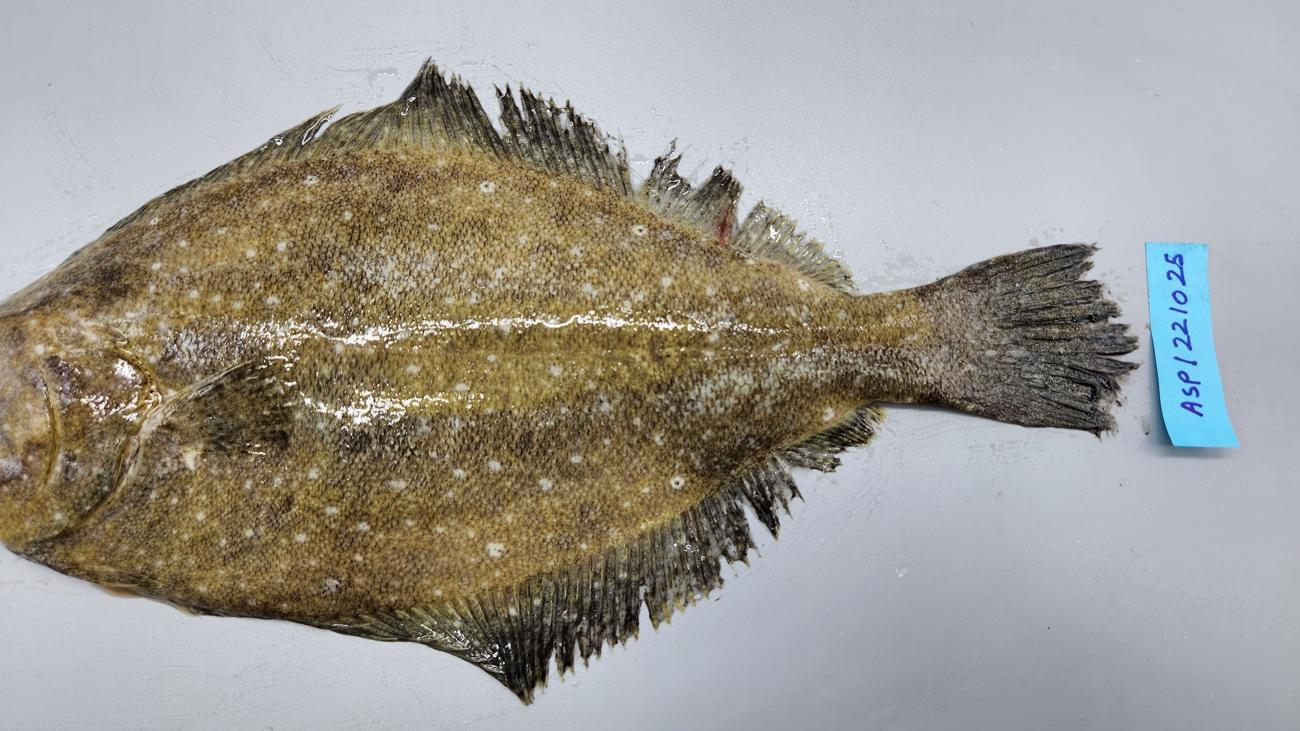SPFAH: (681, 458, 776, 599)
SPFDH: (699, 182, 764, 249)
